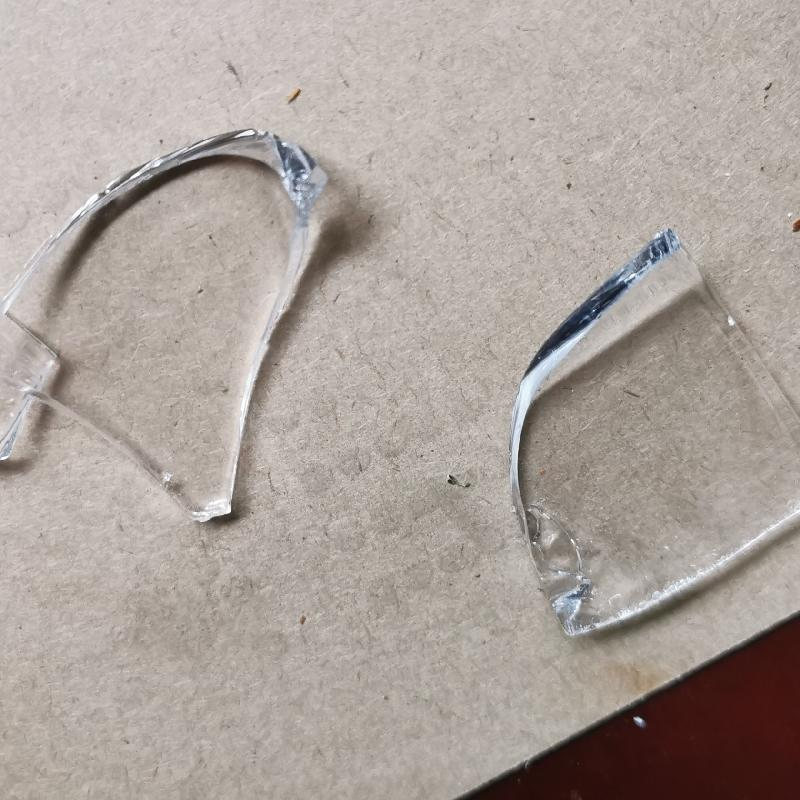glass: (8, 129, 322, 525), (502, 231, 800, 636)
